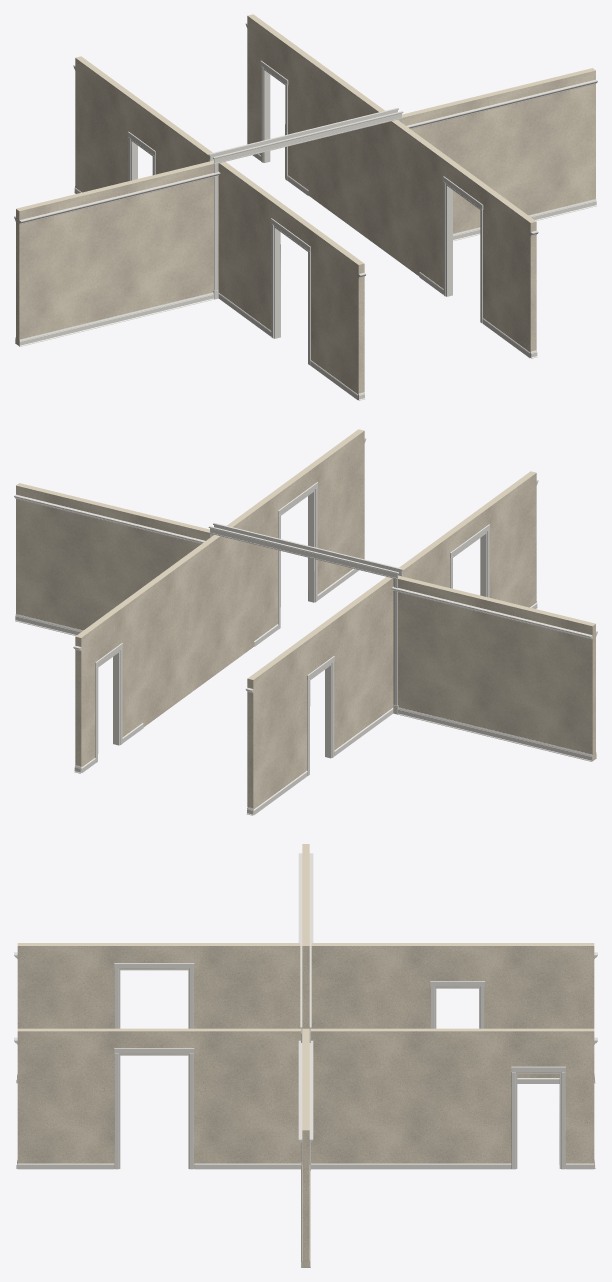
The model's file is plan_ground.glb.
3 views of the same model, one above another, from view 1: azimuth 30°, elevation 25°; view 2: azimuth 150°, elevation 25°; view 3: azimuth 270°, elevation 25° (orthographic).
Visible parts, largest first — view 1: plan_ground_plaster, molduras, plan_ground_frame, plan_ground_trim; view 2: plan_ground_plaster, molduras, plan_ground_frame, plan_ground_trim; view 3: plan_ground_plaster, plan_ground_frame, plan_ground_trim, molduras.
Part boxes in pixels (x1,y1,x2,y2): plan_ground_plaster: [16, 14, 595, 399]; molduras: [14, 23, 597, 400]; plan_ground_frame: [128, 60, 483, 364]; plan_ground_trim: [74, 153, 530, 399]; plan_ground_plaster: [16, 429, 595, 814]; molduras: [14, 438, 597, 815]; plan_ground_frame: [95, 482, 489, 775]; plan_ground_trim: [81, 568, 537, 814]; plan_ground_plaster: [17, 844, 594, 1267]; plan_ground_frame: [114, 963, 565, 1169]; plan_ground_trim: [17, 1078, 594, 1169]; molduras: [14, 853, 597, 1267].
Bounding box in the file's own units: 13.4 × 3.15 × 11.55.
3 materials, 1 textured.
